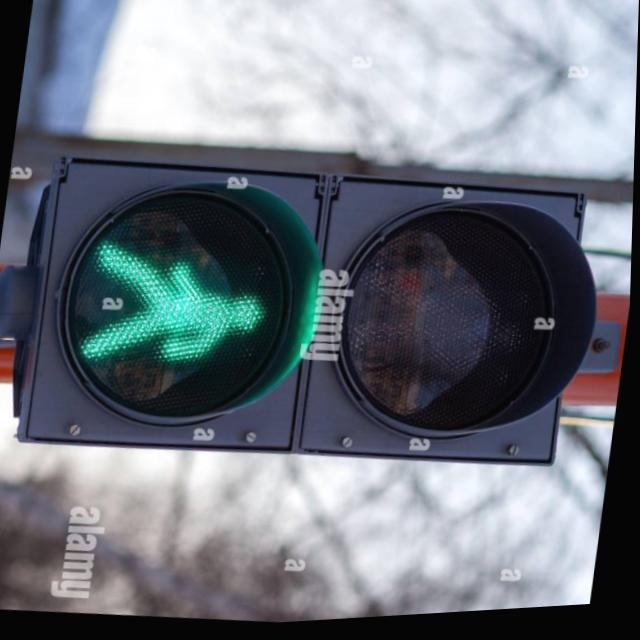green_light: (74, 229, 281, 396)
